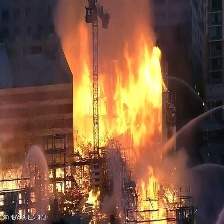fire: (76, 50, 163, 143), (11, 153, 108, 213), (135, 169, 170, 223)
smoke: (57, 2, 157, 44)
